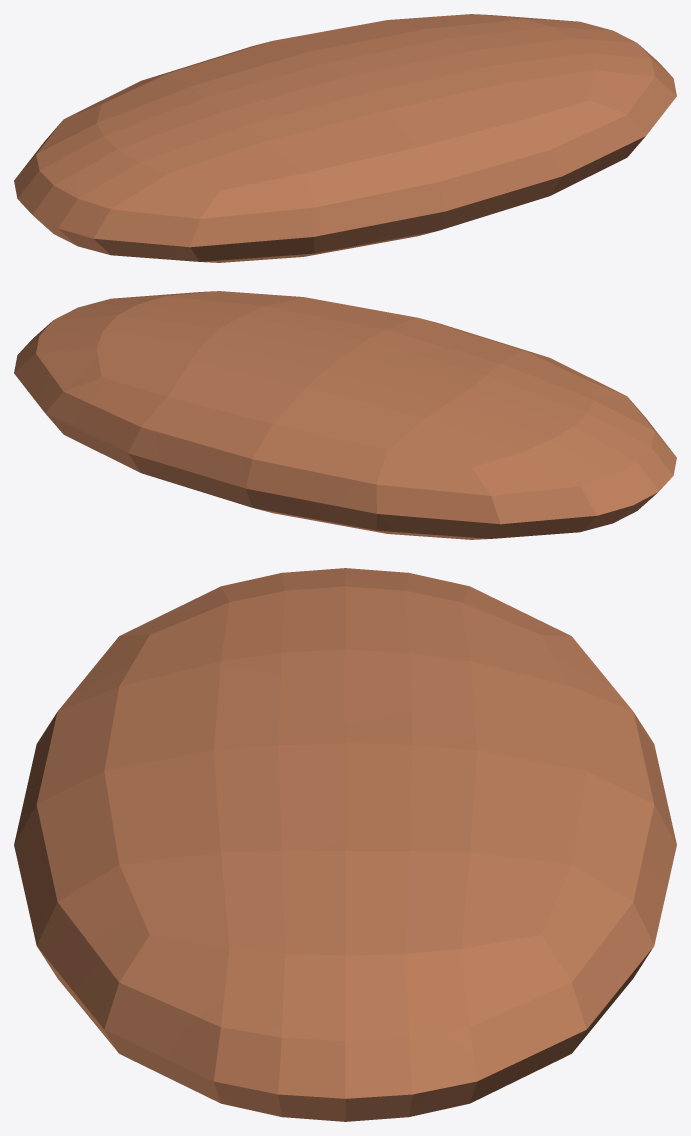
Rendered from smoothRock.fbx.
3 views of the same model, one above another, from view 1: azimuth 30°, elevation 25°; view 2: azimuth 150°, elevation 25°; view 3: azimuth 270°, elevation 25° (orthographic). The views are drawn at different scales.
Visible parts, largest first — view 1: pCube2; view 2: pCube2; view 3: pCube2.
Part boxes in pixels (x1=…): pCube2: x1=14, y1=14, x2=676, y2=262; pCube2: x1=14, y1=291, x2=676, y2=539; pCube2: x1=14, y1=568, x2=676, y2=1121.
Bounding box in the file's own units: 4.55 × 0.8492 × 2.51.
1 material, 1 textured.
